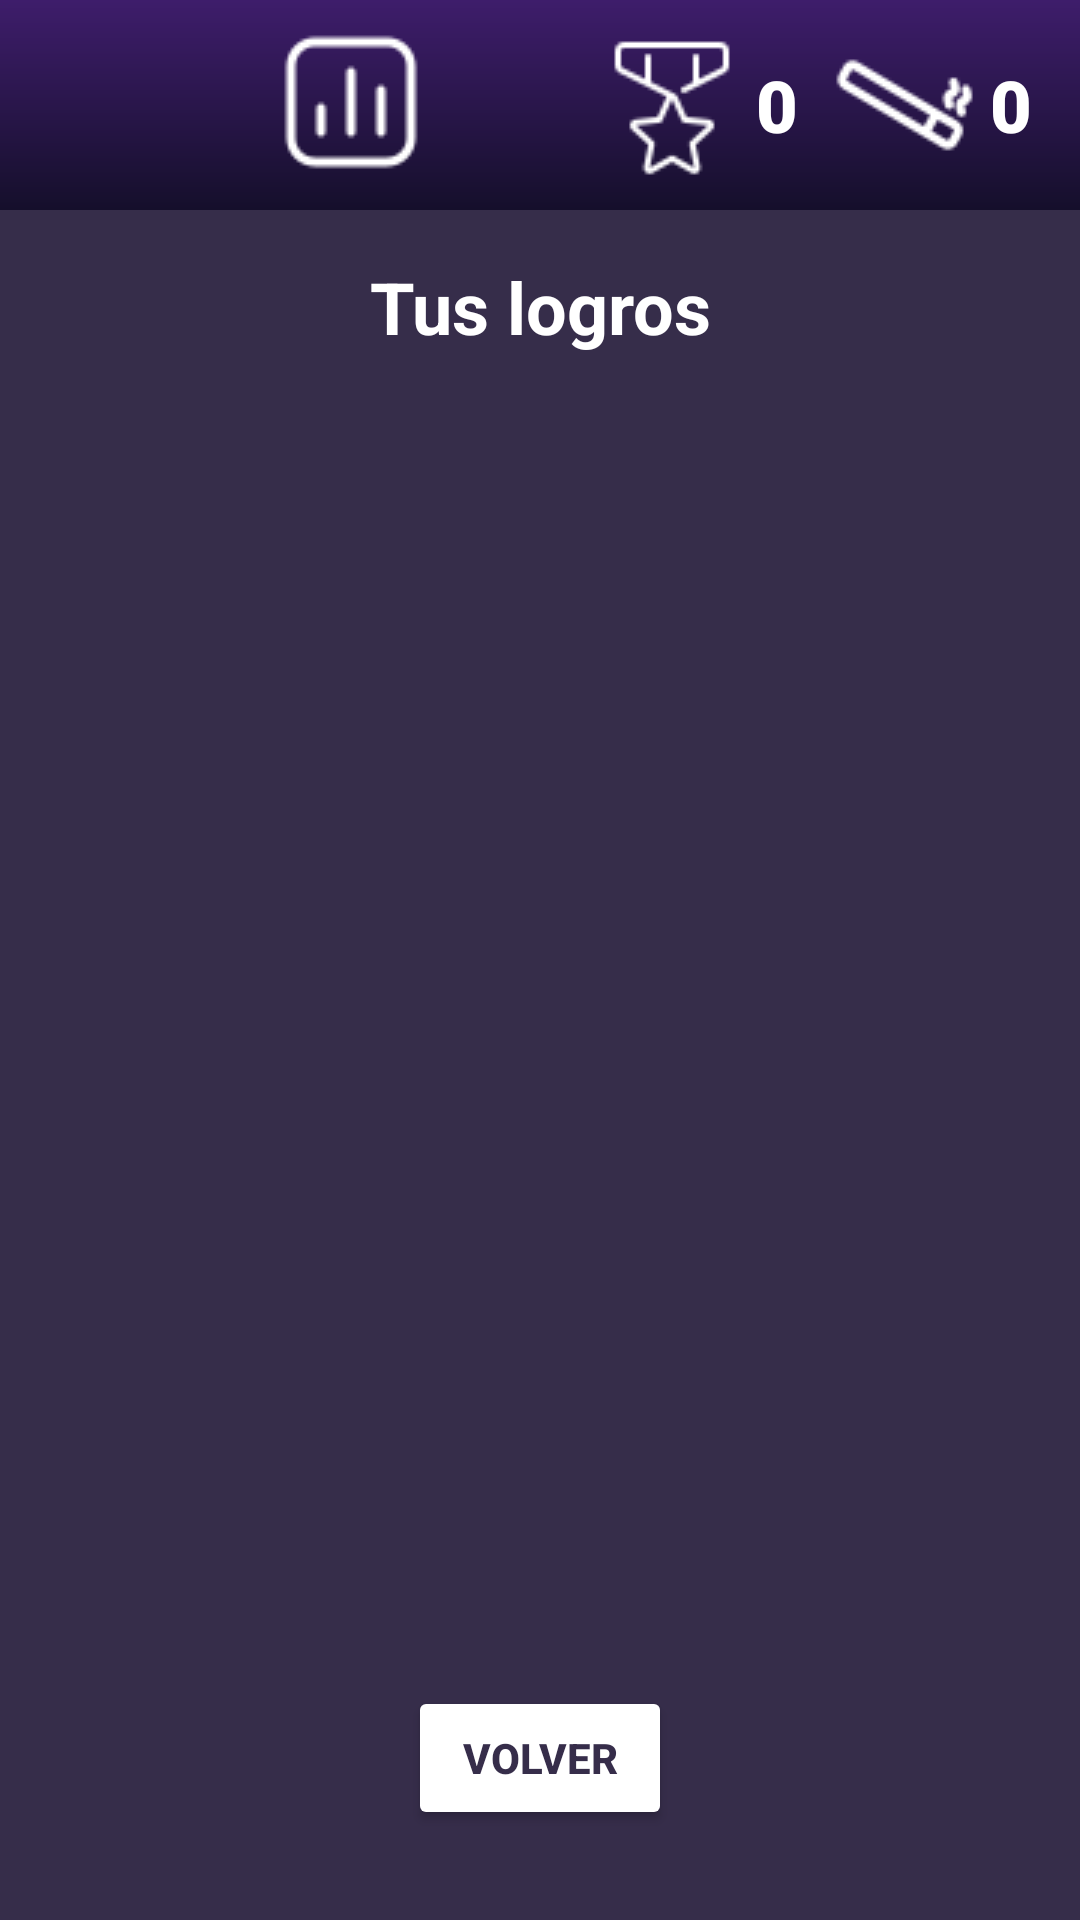

Icon click points for this 1080*1920 phone screenshot, format point (x, y):
Icono de cigarro: point (906, 105)
Ver estadísticas: point (351, 102)
Ver logros: point (672, 105)
